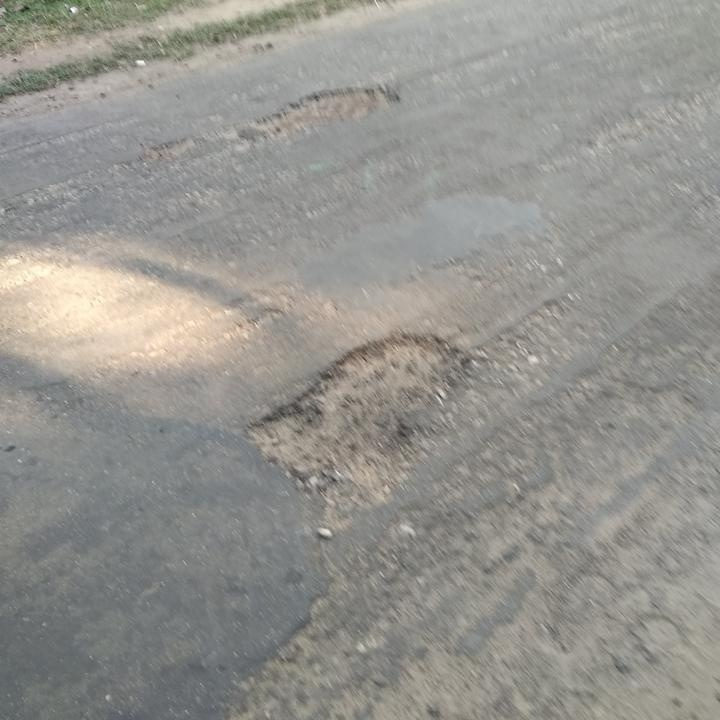pothole: (235, 323, 473, 514), (247, 80, 402, 135)
